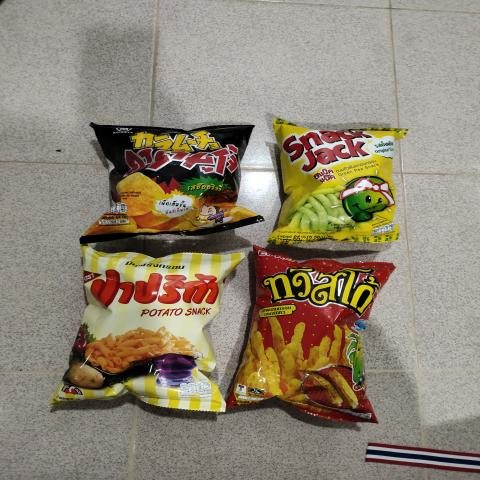karamujo: (108, 124, 232, 228)
paprika: (85, 254, 219, 405)
snack_jack: (284, 125, 391, 243)
twisco: (263, 256, 374, 424)
